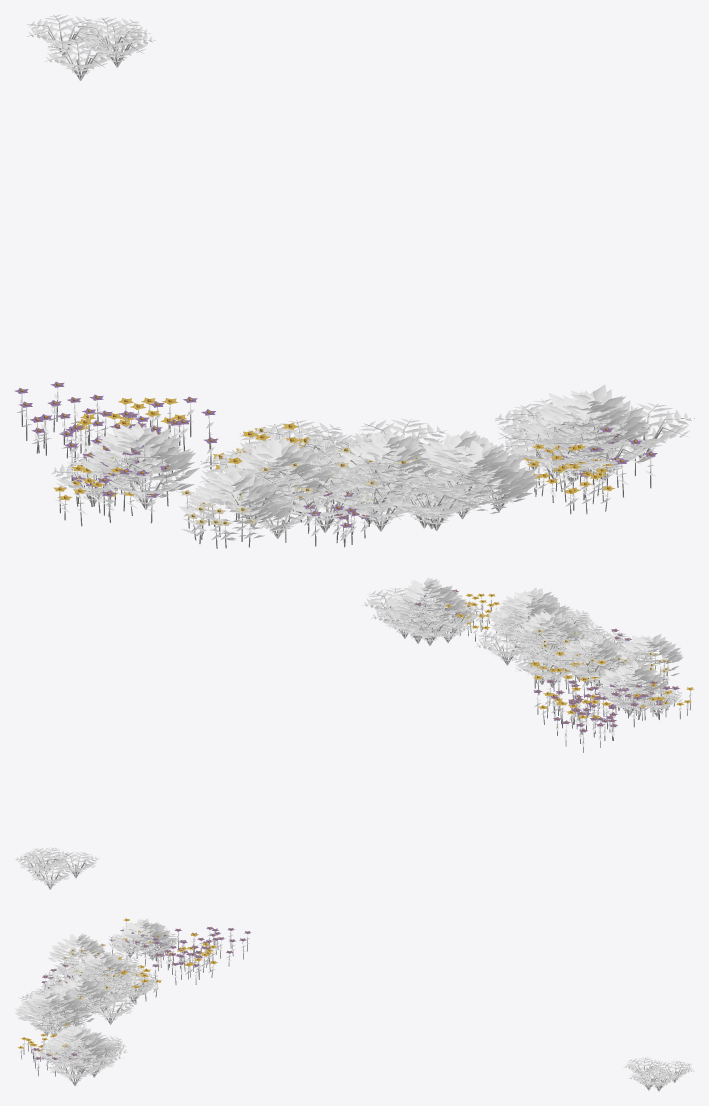
File: SM_DF_Explorer_2_2_Flora.fbx
3 views of the same model, one above another, from view 1: azimuth 30°, elevation 25°; view 2: azimuth 150°, elevation 25°; view 3: azimuth 270°, elevation 25° (orthographic). The views are drawn at different scales.
Parts seen in each view (by area): view 1: SM_DF_Explorer_2_2_Flora; view 2: SM_DF_Explorer_2_2_Flora; view 3: SM_DF_Explorer_2_2_Flora.
Boxes of the visible parts, left/top/right/bottom form: SM_DF_Explorer_2_2_Flora: left=14, top=14, right=694, bottom=548; SM_DF_Explorer_2_2_Flora: left=14, top=577, right=694, bottom=889; SM_DF_Explorer_2_2_Flora: left=14, top=918, right=693, bottom=1091.
Size of the model in its own units: 1012 by 1949 by 158.
